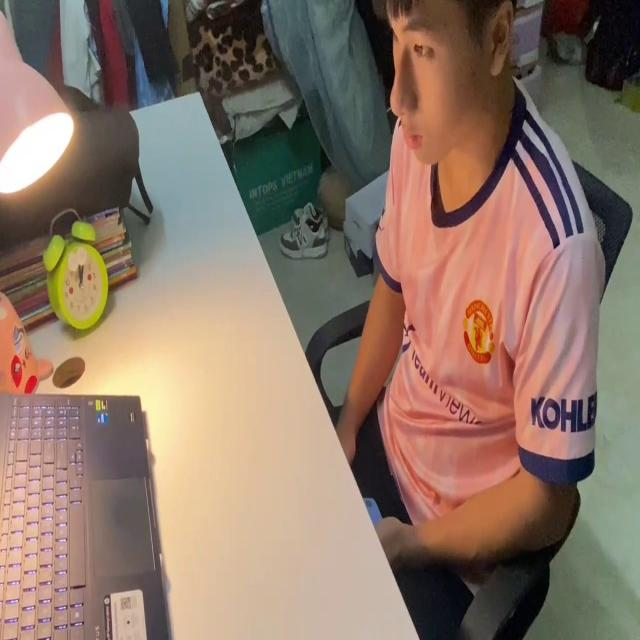laptop: (0, 381, 170, 639)
phone: (363, 489, 385, 536)
student: (333, 0, 603, 566)
